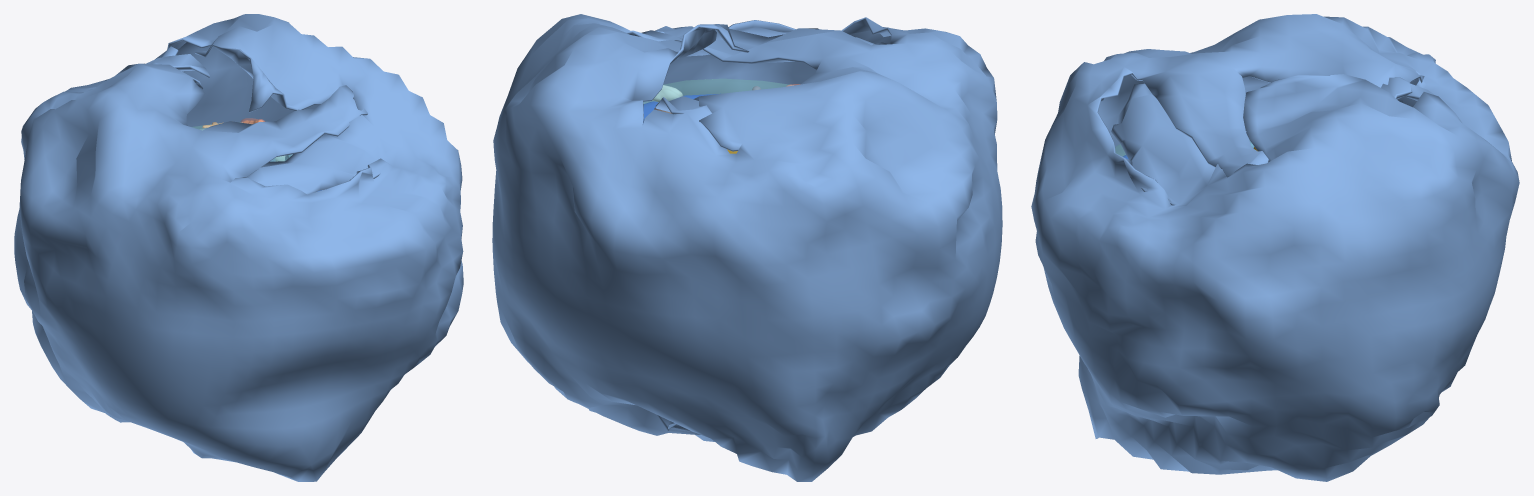
File: SelHewanBroken.glb
The picture shows the model from 3 angles, left to right: view 1: azimuth 30°, elevation 25°; view 2: azimuth 150°, elevation 25°; view 3: azimuth 270°, elevation 25°; orthographic projection. The views are drawn at different scales.
Visible parts, largest first — view 1: Cube; view 2: Cube, Cube.087; view 3: Cube.
Boxes of the visible parts, bbox=[...] form: Cube: bbox=[14, 14, 463, 481]; Cube: bbox=[492, 14, 1002, 481]; Cube.087: bbox=[643, 78, 791, 118]; Cube: bbox=[1031, 14, 1519, 481].
Bounding box in the file's own units: 2.2 × 1.87 × 2.14.
